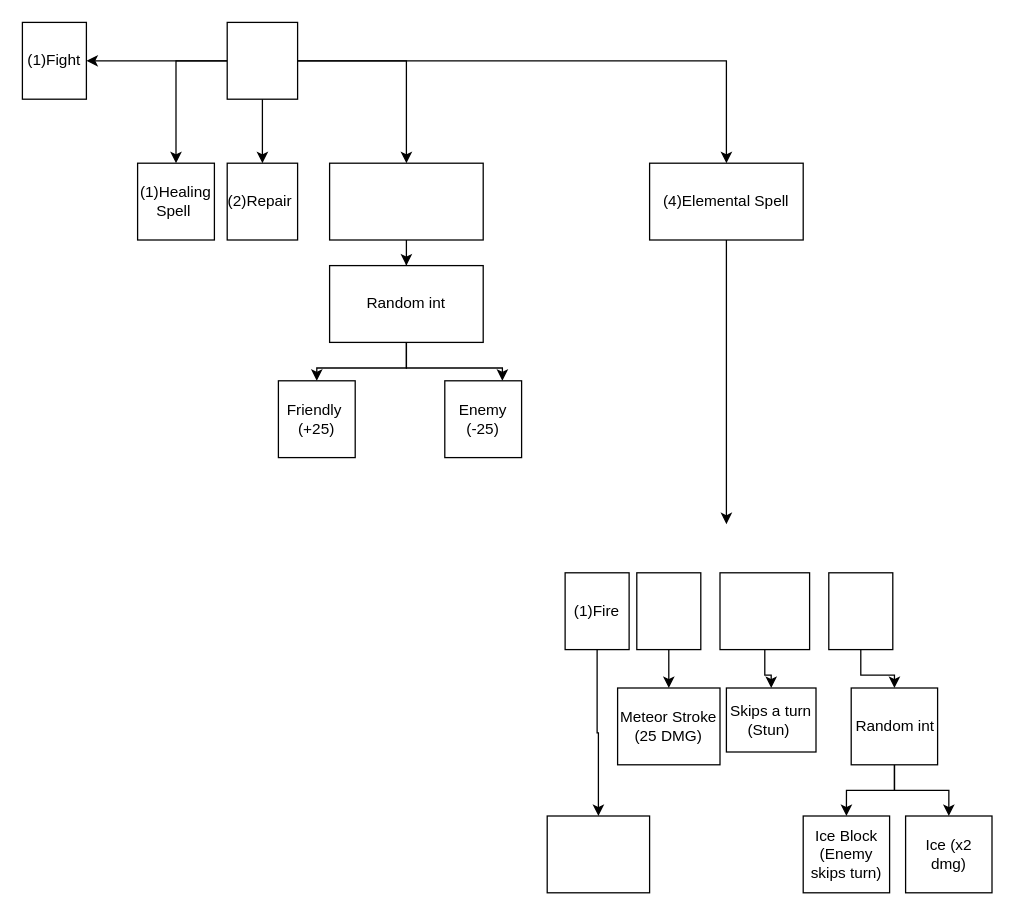
Image size: 1015x915. Some labels were removed from this diagram. The centre of each missing label's shape, as x and y in pixels:
"(2)Geo" goes at (x=668, y=611).
"(3)Electricity" goes at (x=764, y=611).
"(3)Summon Creature" goes at (x=405, y=201).
"(4)Ice" goes at (x=860, y=611).
"2.) Spells x3" goes at (x=262, y=60).
"Apply Fire damage +15 Each turn." goes at (x=598, y=854).
